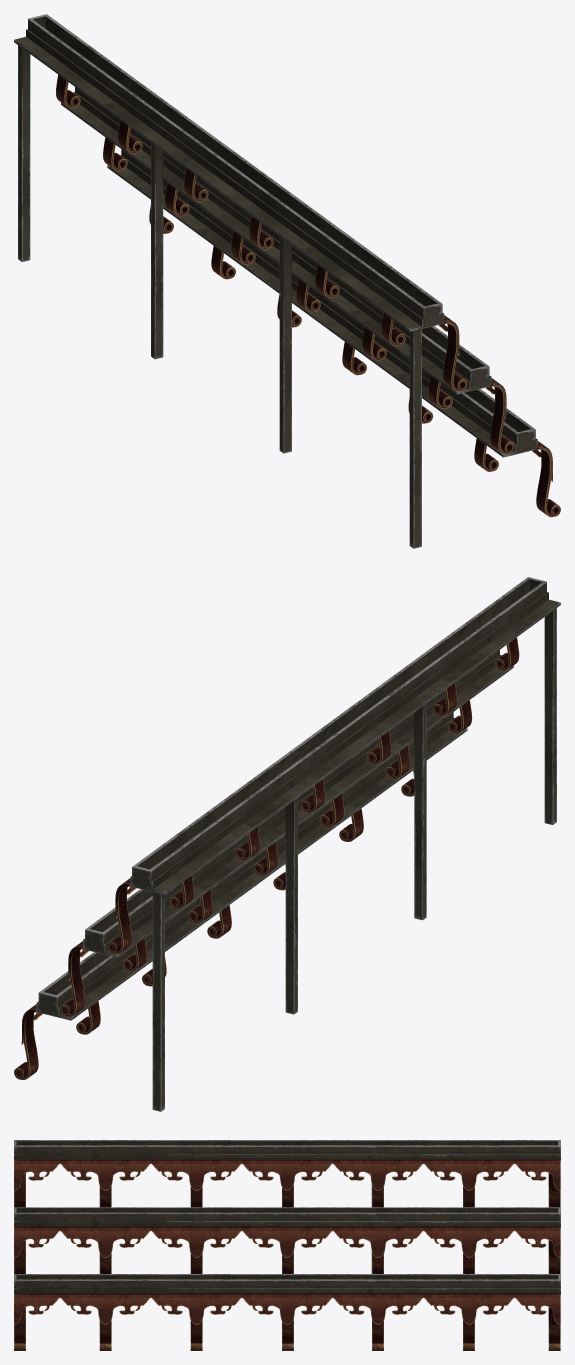
File: SM_Candle_Stand_Small.fbx
The picture shows the model from 3 angles, top to bottom: view 1: azimuth 30°, elevation 25°; view 2: azimuth 150°, elevation 25°; view 3: azimuth 270°, elevation 25°; orthographic projection. The views are drawn at different scales.
Visible parts, largest first — view 1: SM_Candle_Stand_Small_LOD0; view 2: SM_Candle_Stand_Small_LOD0; view 3: SM_Candle_Stand_Small_LOD0.
Part boxes in pixels (x1,y1,x2,y2): SM_Candle_Stand_Small_LOD0: (14, 14, 560, 548); SM_Candle_Stand_Small_LOD0: (14, 577, 560, 1111); SM_Candle_Stand_Small_LOD0: (14, 1140, 560, 1350).
Bounding box in the file's own units: 79.54 × 361 × 121.
